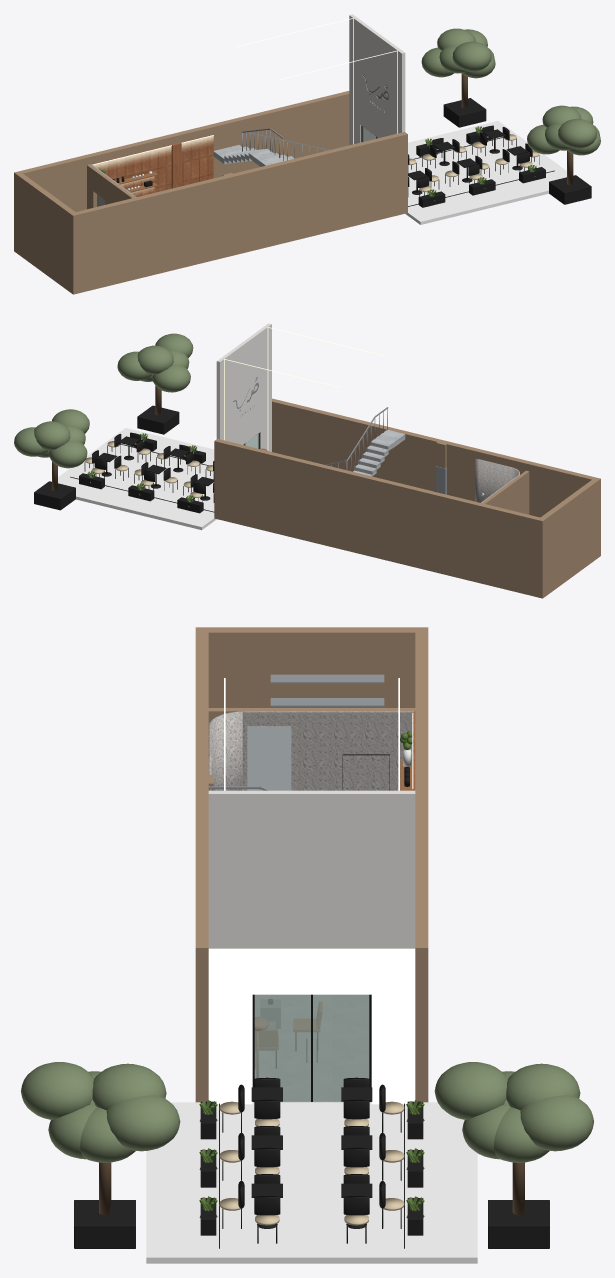
The model's file is walk-ground.492311b0e9.glb.
3 renders of one model, top to bottom at view 1: azimuth 30°, elevation 25°; view 2: azimuth 150°, elevation 25°; view 3: azimuth 270°, elevation 25°, orthographic. The views are drawn at different scales.
Parts seen in each view (by area): view 1: wall_side_b, wall_side_t, out_floor, wall_back, wallbrick, fw_top, fw_right, fw_left, canopy.012, canopy.005, tree_box.001, tree_box (+8 smaller); view 2: wall_side_t, wall_side_b, out_floor, wall_back, fw_top, fw_left, fw_right, zebra_curve, part, tree_box, tree_box.001, canopy.009 (+7 smaller); view 3: out_floor, fw_top, wall_back, door_glass, floor_marble, zclad_part, fw_left, fw_right, neon_left, neon_right, wall_side_b, wall_side_t (+18 smaller).
Boxes of the visible parts, x1,y1,x2,y2 form: wall_side_b: [76, 132, 407, 293]; wall_side_t: [20, 91, 349, 211]; out_floor: [405, 121, 566, 224]; wall_back: [14, 171, 78, 294]; wallbrick: [91, 134, 213, 196]; fw_top: [360, 22, 393, 137]; fw_right: [349, 14, 363, 145]; fw_left: [390, 45, 405, 134]; canopy.012: [452, 41, 491, 71]; canopy.005: [558, 119, 596, 148]; tree_box.001: [443, 98, 486, 127]; tree_box: [549, 175, 591, 204]; wall_side_t: [214, 439, 539, 596]; wall_side_b: [272, 398, 594, 517]; out_floor: [58, 428, 216, 530]; wall_back: [537, 477, 600, 598]; fw_top: [228, 331, 260, 444]; fw_left: [258, 323, 271, 451]; fw_right: [216, 353, 230, 441]; zebra_curve: [475, 458, 519, 502]; part: [493, 470, 529, 514]; tree_box: [137, 405, 179, 434]; tree_box.001: [34, 481, 75, 510]; canopy.009: [34, 421, 70, 450]; out_floor: [146, 1102, 477, 1263]; fw_top: [252, 790, 371, 948]; wall_back: [195, 627, 428, 707]; door_glass: [254, 994, 369, 1101]; floor_marble: [253, 995, 371, 1102]; zclad_part: [242, 711, 413, 790]; fw_left: [208, 790, 252, 948]; fw_right: [371, 790, 415, 948]; neon_left: [208, 948, 252, 1104]; neon_right: [371, 948, 415, 1104]; wall_side_b: [195, 632, 208, 1102]; wall_side_t: [415, 632, 428, 1102].
Size of the model in its own units: 22.08 by 6.72 by 11.08.
Materials: 53 (4 with a texture image).
